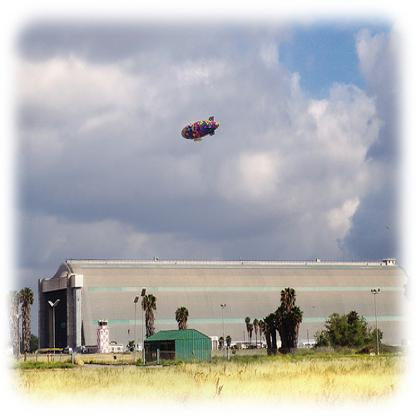Airship: (179, 111, 224, 150)
